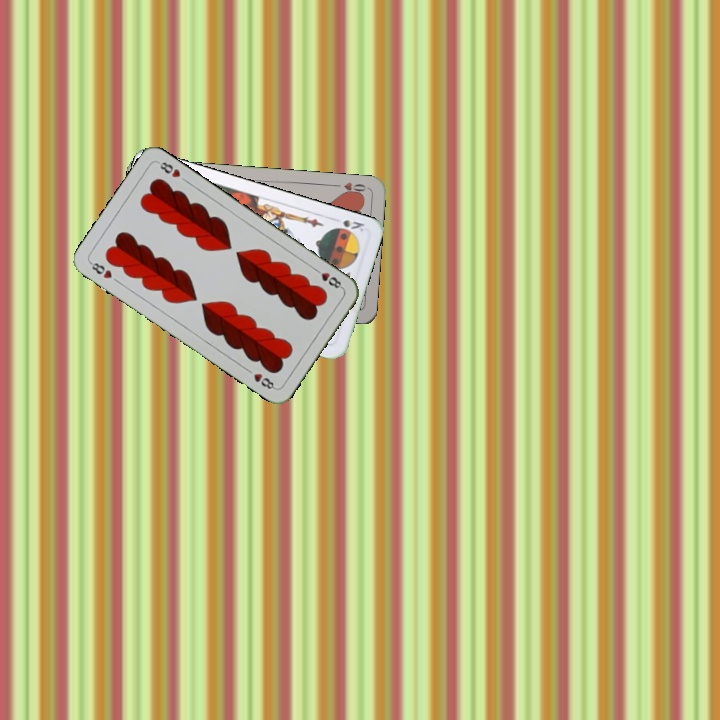H8: (310, 264, 346, 291), (86, 258, 115, 281)
HO: (329, 178, 370, 198)
SK: (339, 215, 367, 234)
